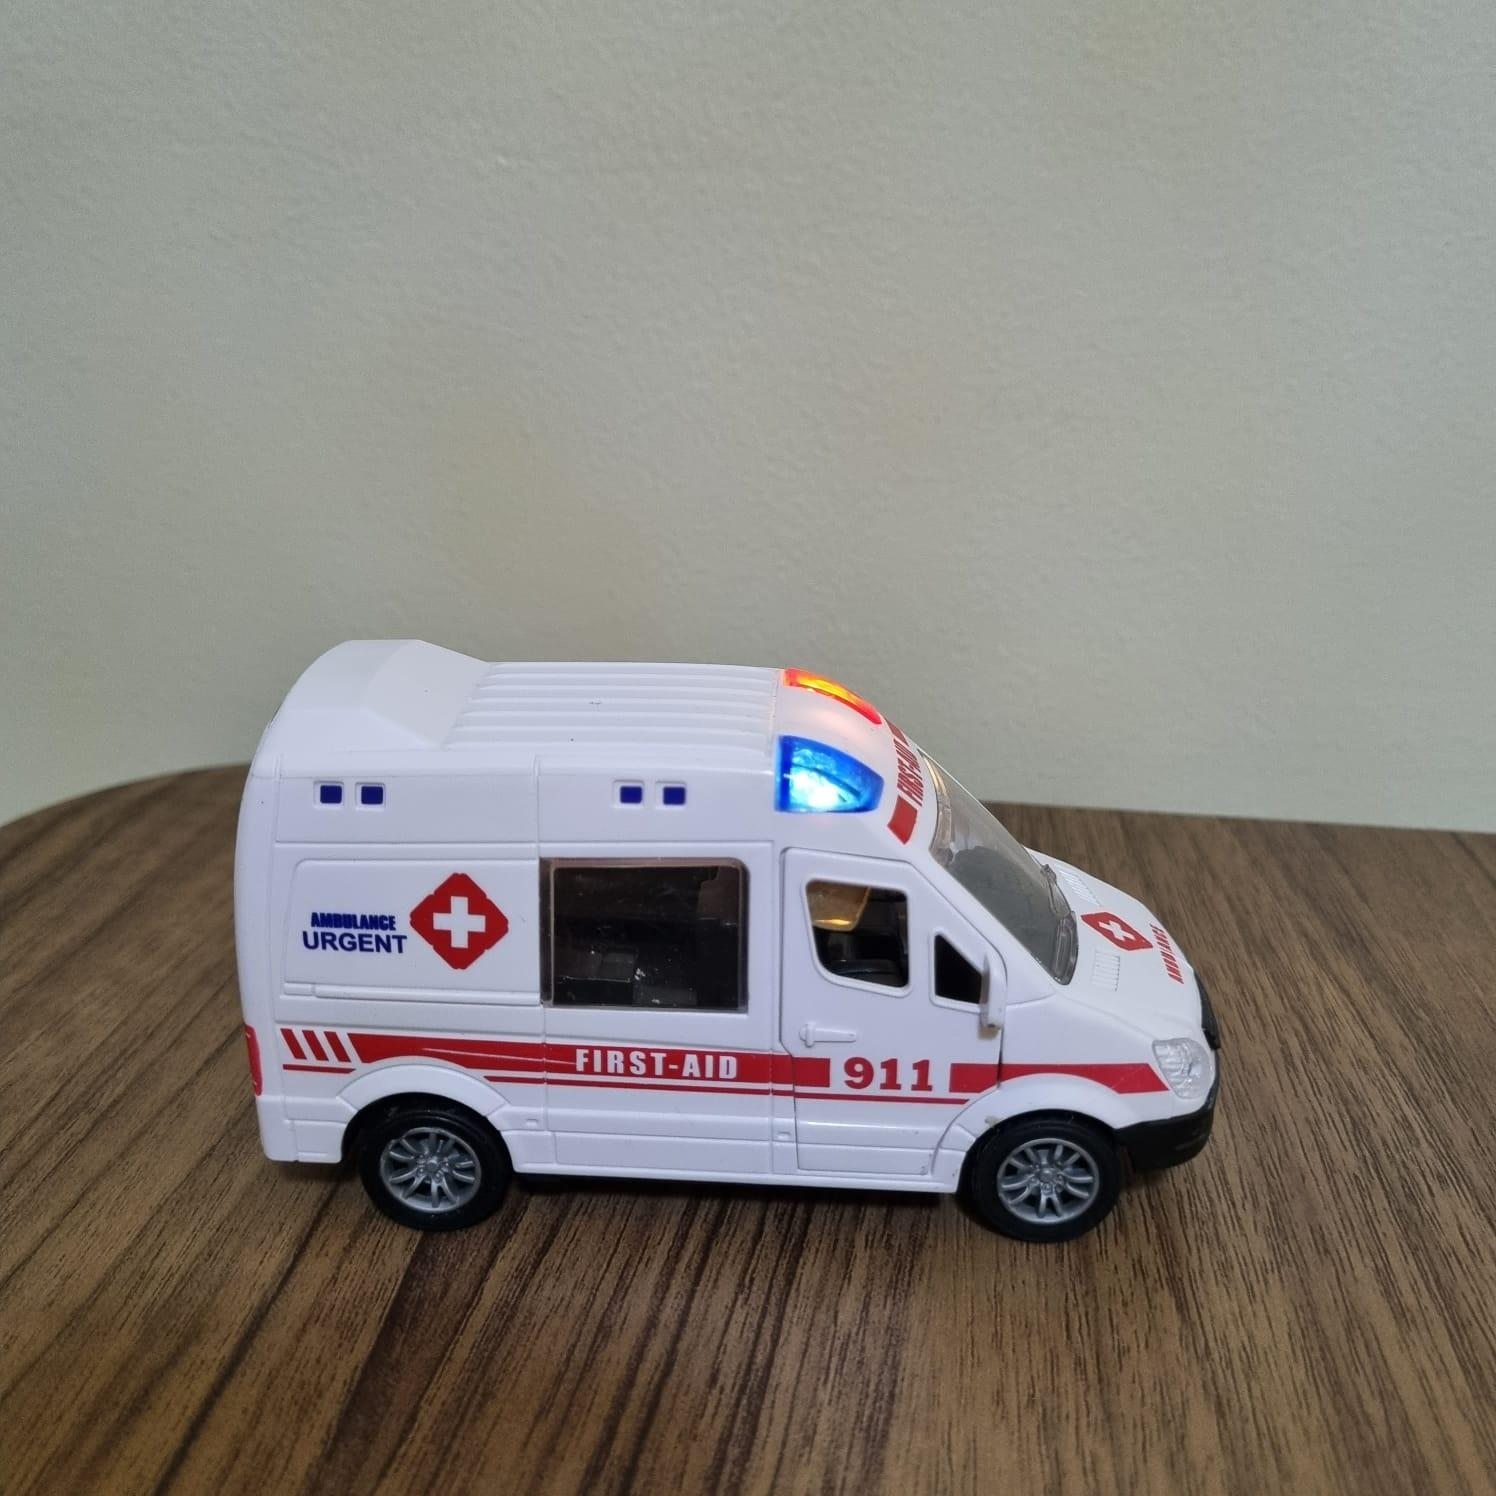ambulance_on: (238, 634, 1221, 1245)
